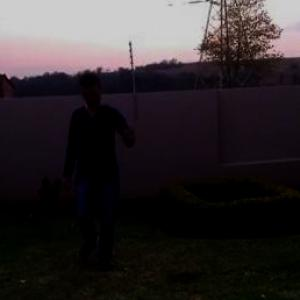takeoff-hand: (114, 116, 145, 158)
